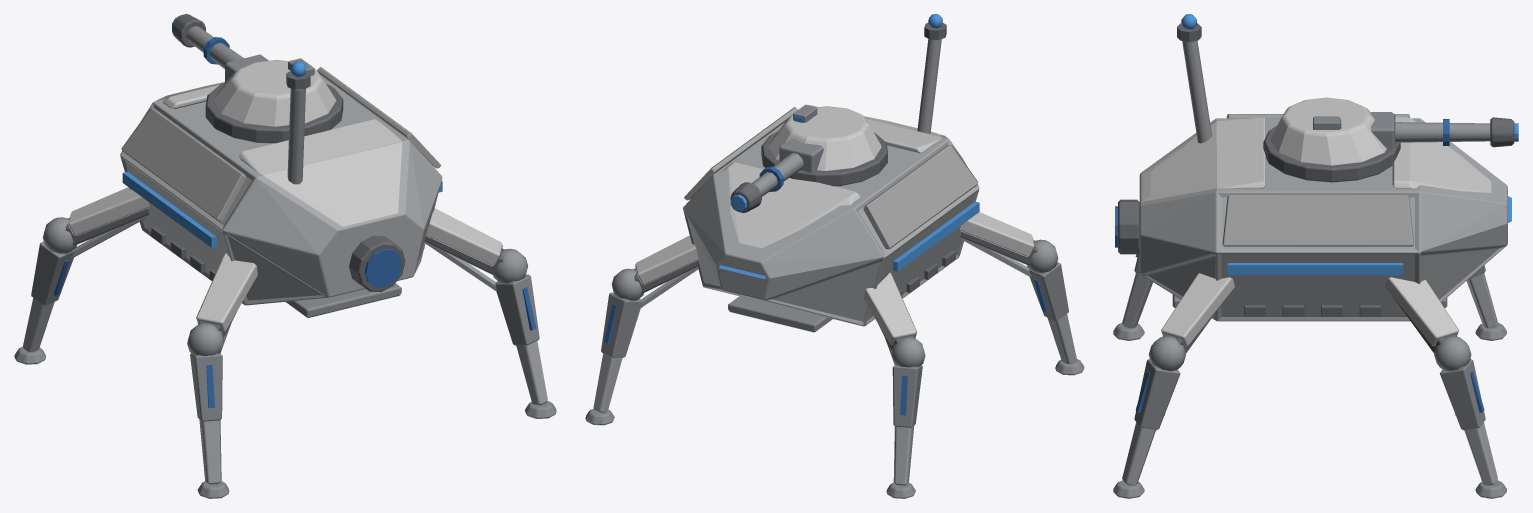
The model's file is lattice_amphibious.glb.
The picture shows the model from 3 angles, left to right: view 1: azimuth 30°, elevation 25°; view 2: azimuth 150°, elevation 25°; view 3: azimuth 270°, elevation 25°; orthographic projection. The views are drawn at different scales.
Visible parts, largest first — view 1: Body, Turret; view 2: Body, Turret; view 3: Body, Turret.
Boxes of the visible parts, x1,y1,x2,y2 form: Body: (14,61,556,498); Turret: (172,14,343,143); Body: (585,14,1084,498); Turret: (730,104,887,213); Body: (1113,14,1511,498); Turret: (1263,97,1518,182).
Bounding box in the file's own units: 1.47 × 1.51 × 1.48.
